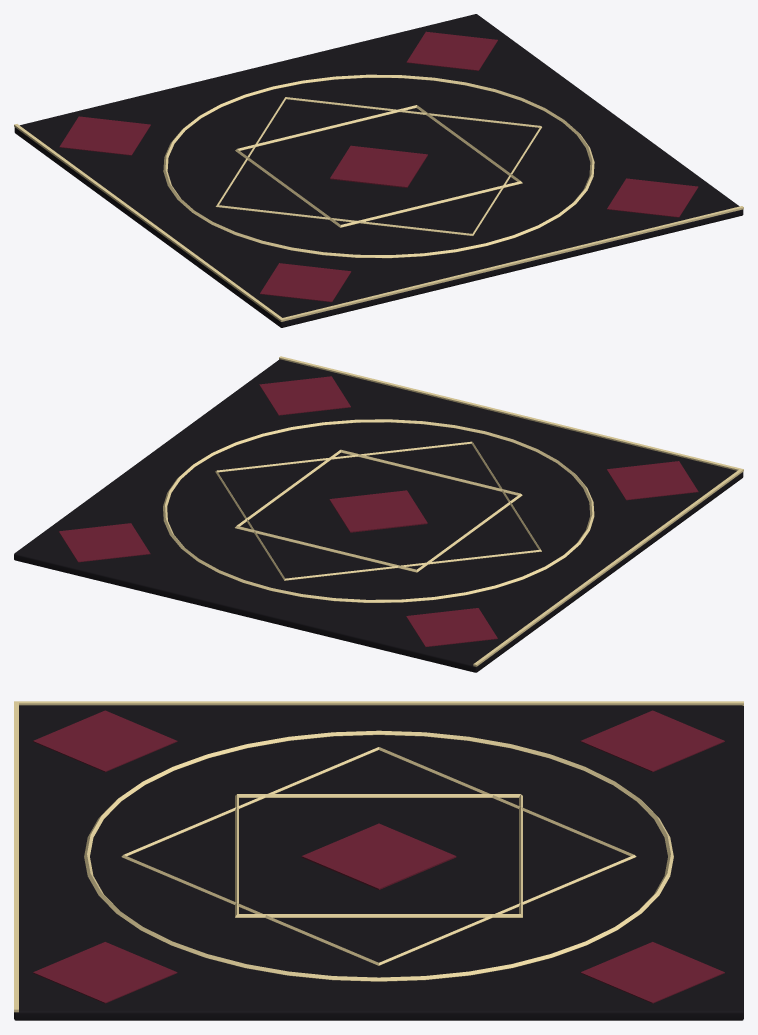
The model's file is floor_black_marble.glb.
3 renders of one model, top to bottom at view 1: azimuth 30°, elevation 25°; view 2: azimuth 150°, elevation 25°; view 3: azimuth 270°, elevation 25°, orthographic. The views are drawn at different scales.
Visible parts, largest first — view 1: floor_black_marble; view 2: floor_black_marble; view 3: floor_black_marble.
Boxes of the visible parts, x1,y1,x2,y2 form: floor_black_marble: (14, 14, 743, 327); floor_black_marble: (14, 356, 743, 672); floor_black_marble: (14, 701, 743, 1020).
Bounding box in the file's own units: 2 × 0.04 × 2.
